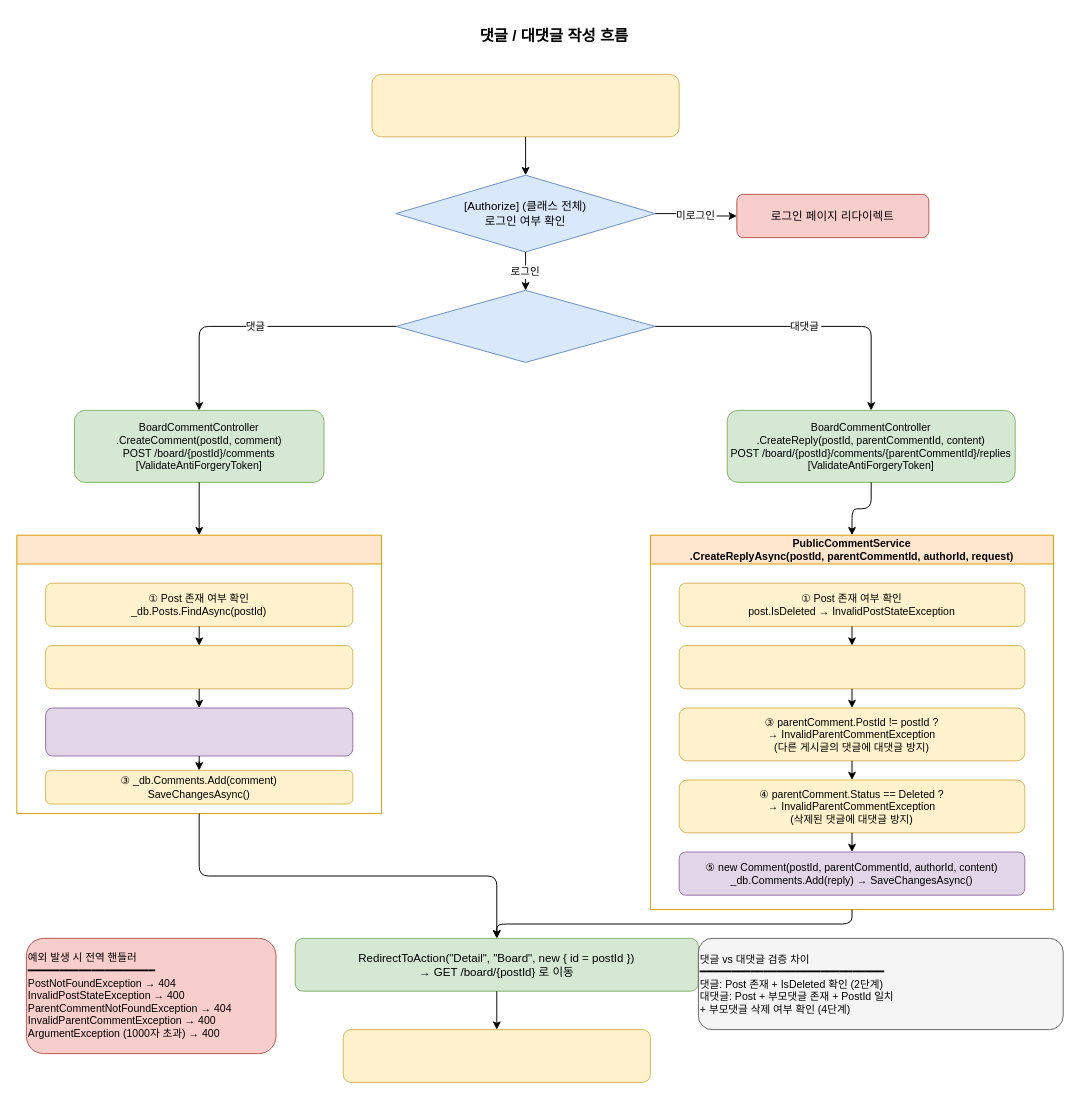
The diagram is 1080 pixels wide and 1099 high, and some of its shapes have lost their labels. The box of each missing label's shape, as (x1, y1, x2, y2) in pixels:
post.IsDeleted 확인 삭제된 게시글 → InvalidPostStateException: (45, 645, 353, 689)
PublicCommentService .CreateCommentAsync(postId, authorId, request): (16, 534, 382, 814)
User /board/{postId} 게시글 상세 페이지에서 댓글 또는 대댓글 폼 제출: (371, 73, 679, 137)
② new Comment(postId, authorId, content) → Domain 유효성: 빈값 / 1000자 초과 체크: (45, 707, 353, 756)
② 부모 댓글 존재 여부 확인 → ParentCommentNotFoundException: (678, 645, 1025, 689)
게시글 상세 페이지 재표시 (작성한 댓글 / 대댓글 포함): (342, 1029, 650, 1082)
어떤 폼을 제출했는가?: (395, 289, 655, 362)
